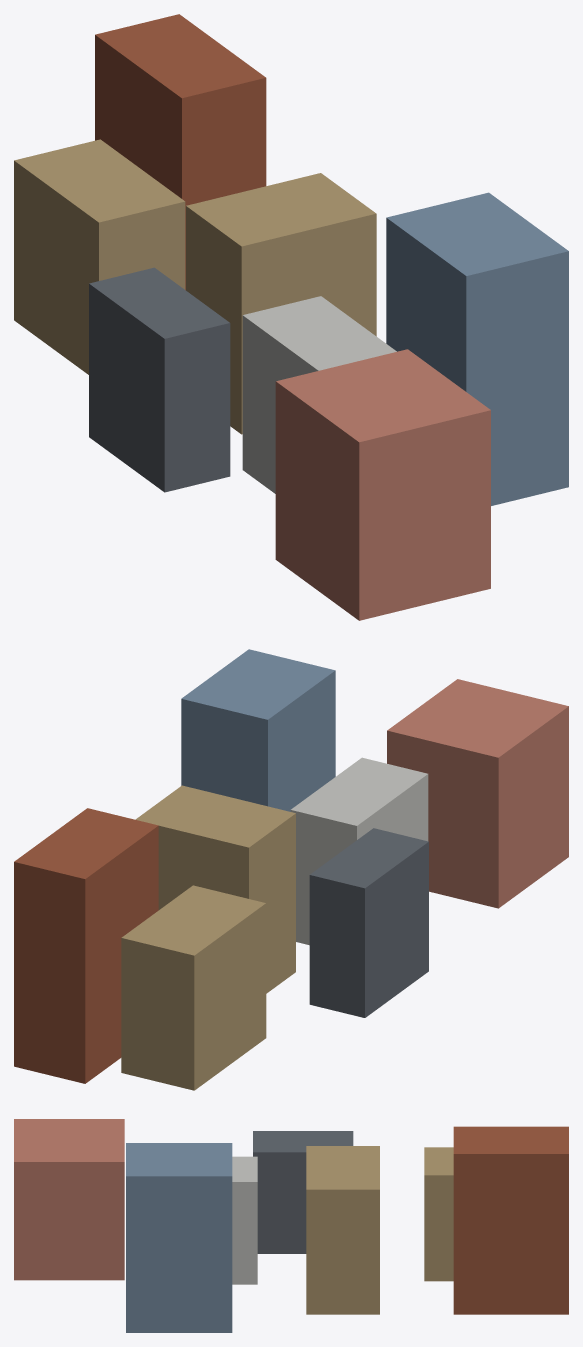
Rendered from synth-06-01.lod2.glb.
3 renders of one model, top to bottom at view 1: azimuth 30°, elevation 25°; view 2: azimuth 150°, elevation 25°; view 3: azimuth 270°, elevation 25°, orthographic. The views are drawn at different scales.
Parts seen in each view (by area): view 1: synth-06-01; view 2: synth-06-01; view 3: synth-06-01.
Boxes of the visible parts, left/top/right/bottom form: synth-06-01: left=14, top=14, right=568, bottom=620; synth-06-01: left=14, top=649, right=568, bottom=1090; synth-06-01: left=14, top=1119, right=568, bottom=1332.
Bounding box in the file's own units: 40.4 × 30.31 × 94.82.
